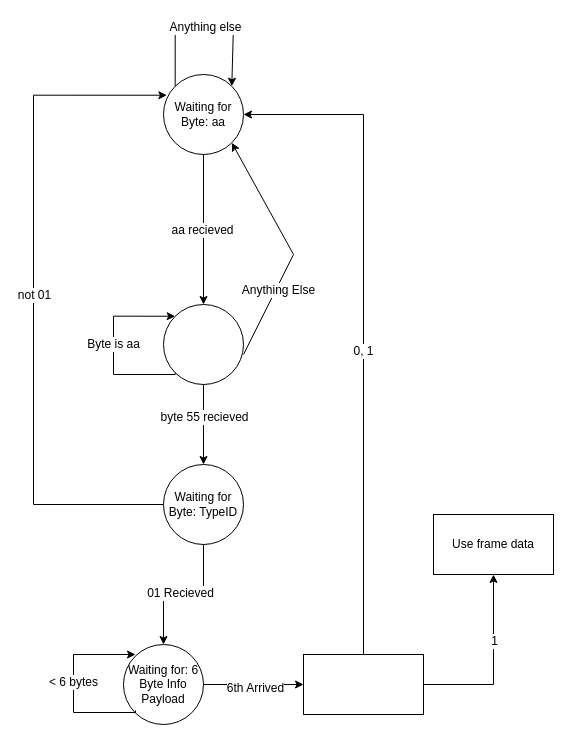
Image size: 571x742. Some labels were removed from this diagram. Each missing label, with the centre of its shape:
"fram_decode()" belongs at pixel 363 684.
"Waiting for Byte: 55" belongs at pixel 203 344.
